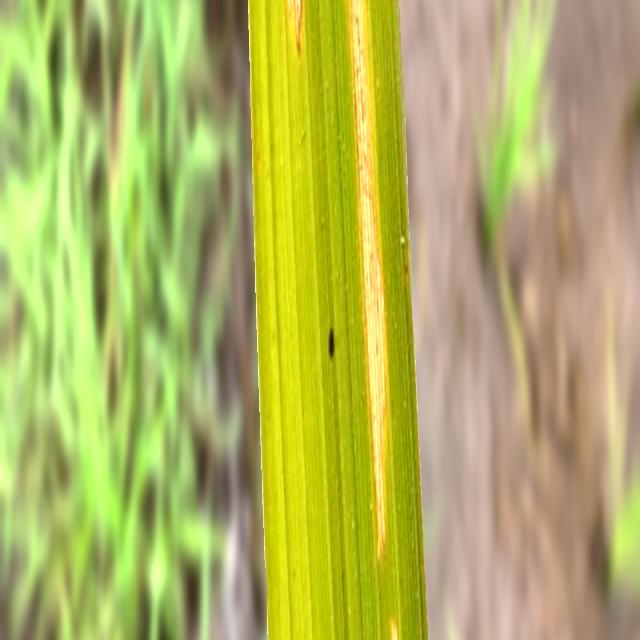BLS: (349, 0, 387, 563), (286, 0, 302, 49)
